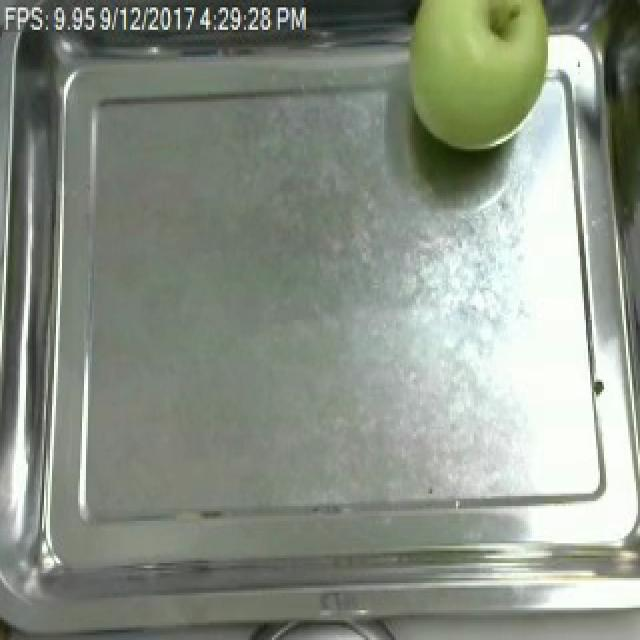50-_ripeness: (391, 0, 604, 177)
